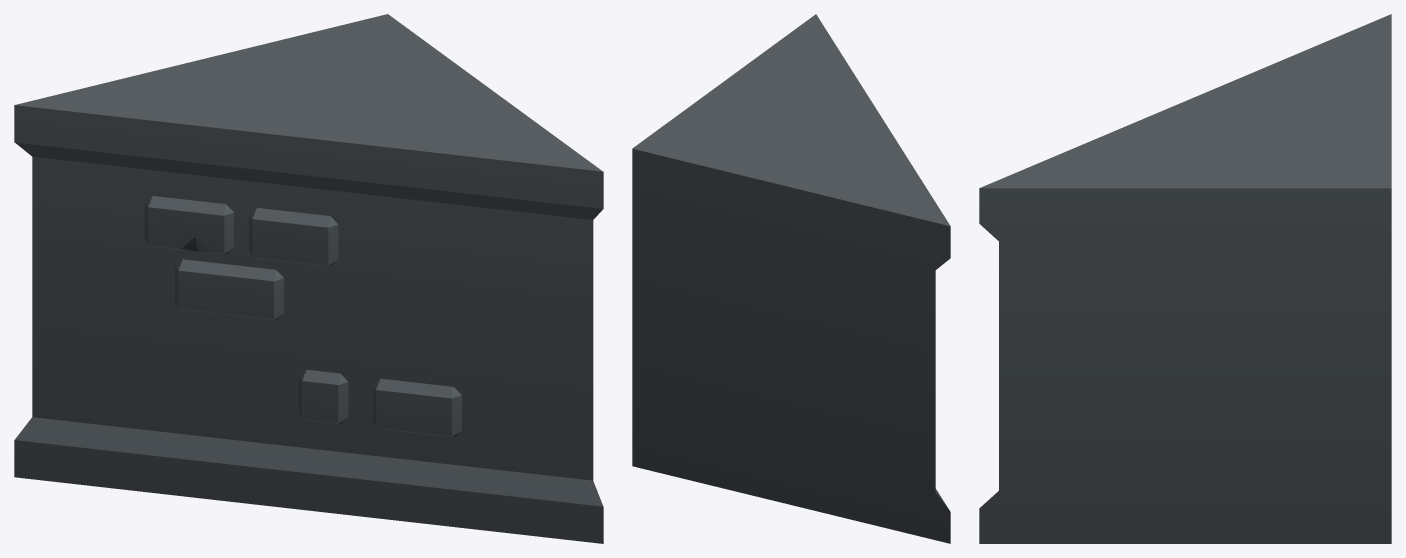
Rendered from floor_foundation_diagonal_corner.obj.
3 renders of one model, left to right at view 1: azimuth 30°, elevation 25°; view 2: azimuth 150°, elevation 25°; view 3: azimuth 270°, elevation 25°, orthographic. The views are drawn at different scales.
Parts seen in each view (by area): view 1: floor_foundation_diagonal_corner; view 2: floor_foundation_diagonal_corner; view 3: floor_foundation_diagonal_corner.
Boxes of the visible parts, x1,y1,x2,y2 form: floor_foundation_diagonal_corner: [14, 14, 603, 543]; floor_foundation_diagonal_corner: [632, 14, 950, 543]; floor_foundation_diagonal_corner: [979, 14, 1391, 543].
Size of the model in its own units: 2.1 by 2 by 2.1.
1 material, 1 textured.
